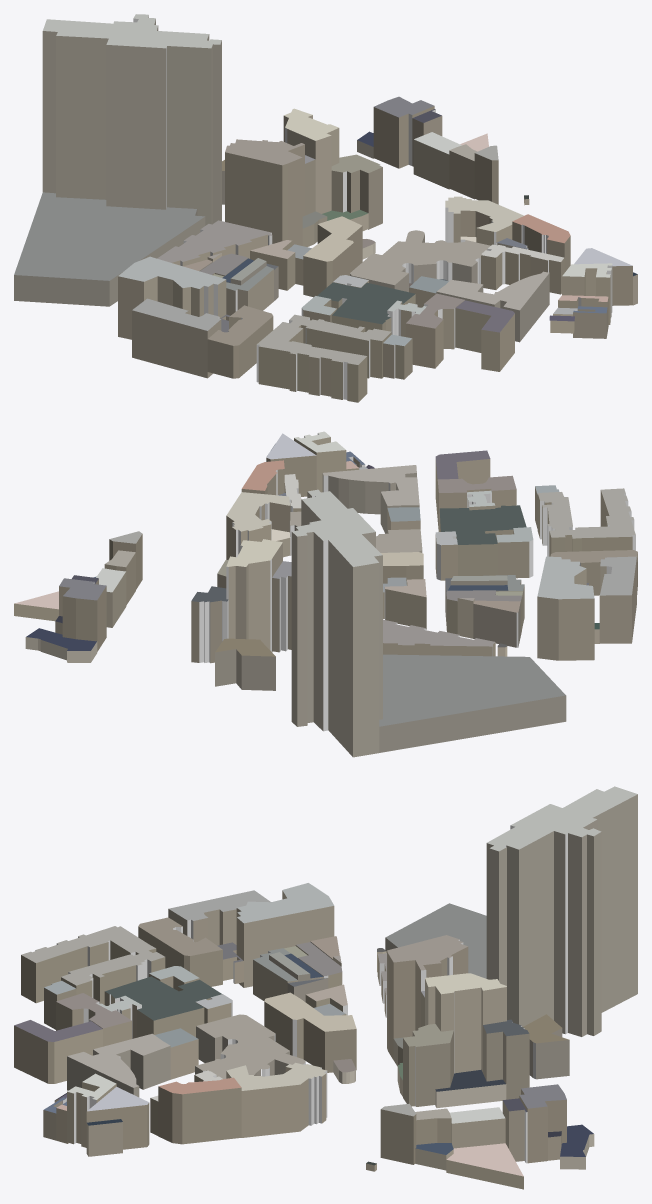
The picture shows the model from 3 angles, top to bottom: view 1: azimuth 30°, elevation 25°; view 2: azimuth 150°, elevation 25°; view 3: azimuth 270°, elevation 25°; orthographic projection. The views are drawn at different scales.
Parts seen in each view (by area): view 1: tuile; view 2: tuile; view 3: tuile.
Part boxes in pixels (box(x1,y1,x2,y2)): tuile: box(14, 14, 637, 402); tuile: box(14, 431, 637, 757); tuile: box(14, 786, 637, 1189).
Size of the model in its own units: 298 by 105 by 297.
